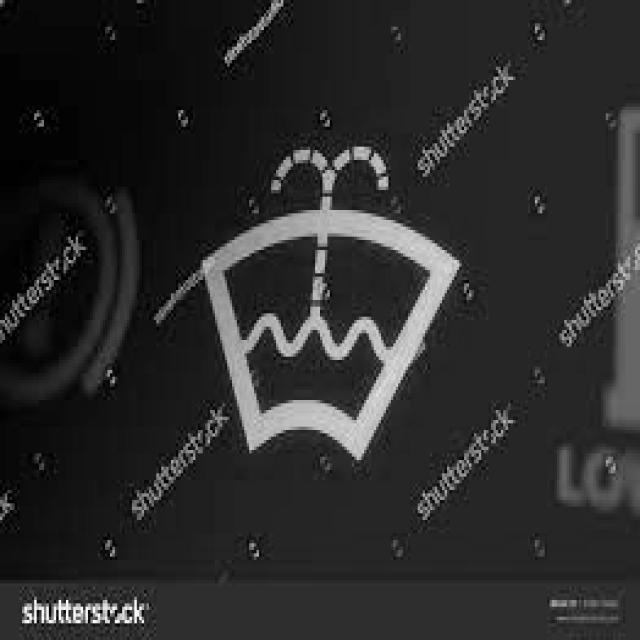Washer Fluid: (202, 146, 460, 462)
